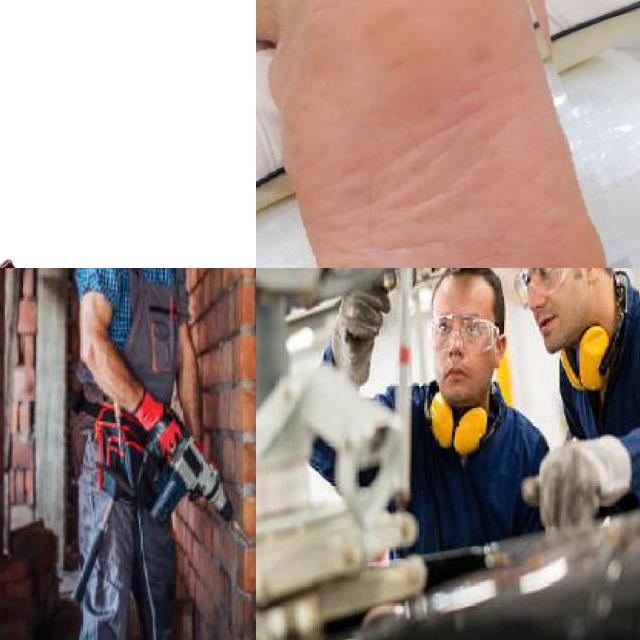Barefoots: (256, 0, 614, 268)
Ear-protection: (540, 329, 640, 400), (417, 379, 507, 455)
glasses: (418, 308, 502, 355), (513, 268, 584, 309)
head_nohelmet: (425, 268, 514, 404), (510, 268, 618, 362)
person: (51, 268, 231, 640), (316, 268, 539, 558), (496, 268, 640, 537)
